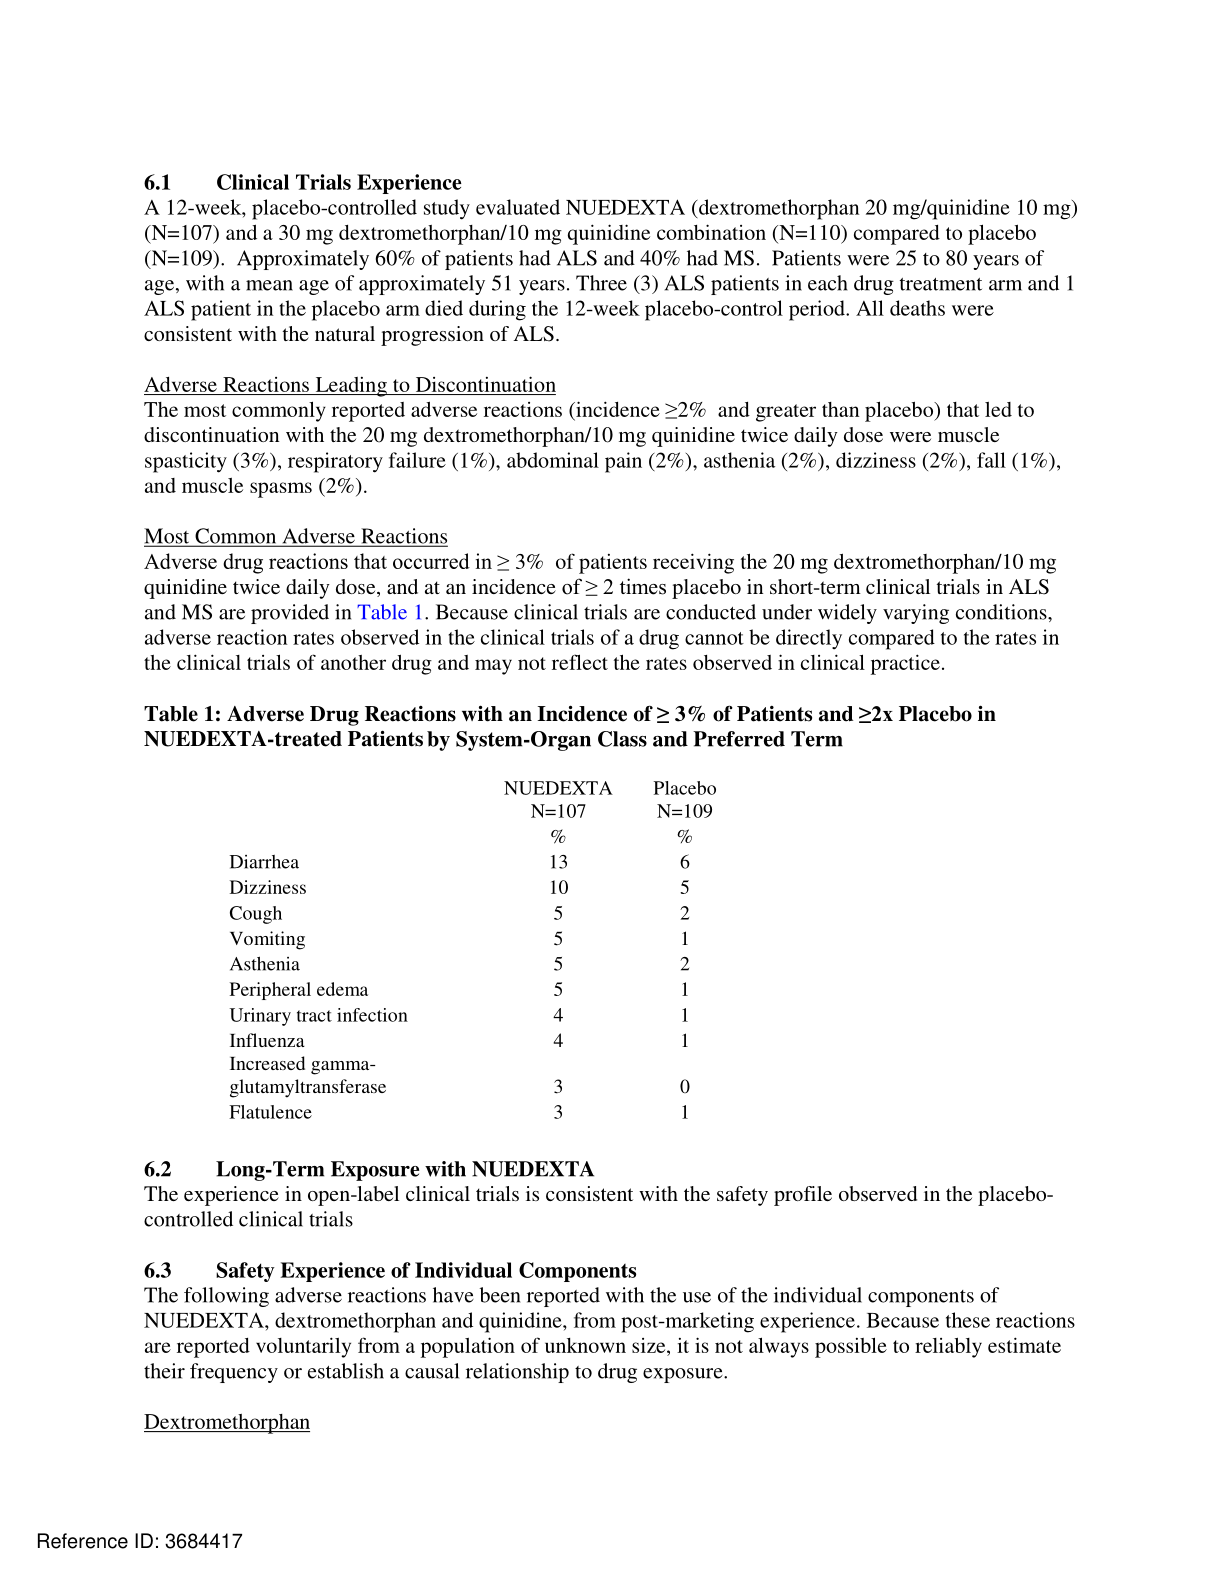nolines: (225, 777, 721, 1126)
